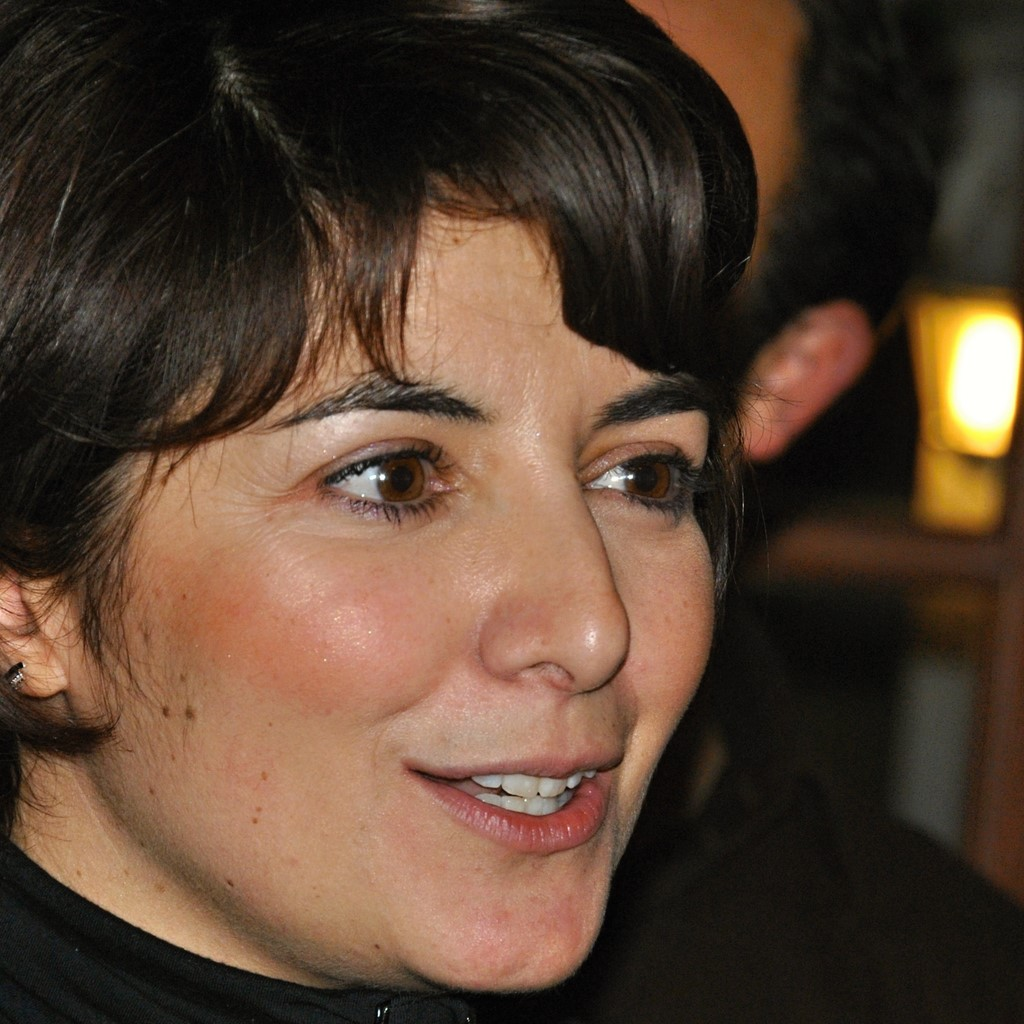sin_mascara: (5, 62, 722, 1003)
